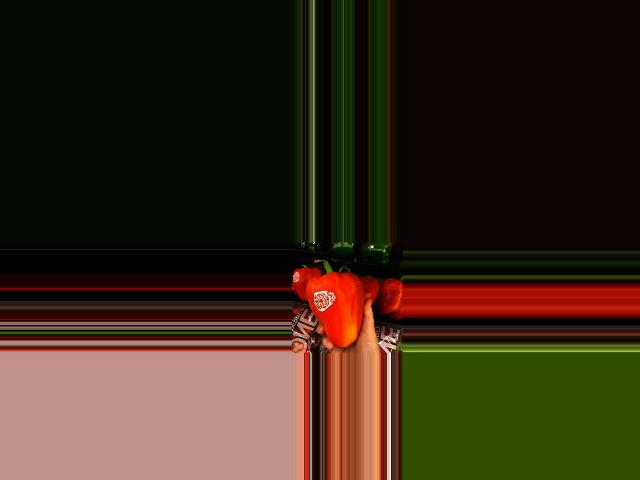bell_pepper: (304, 258, 370, 346)
